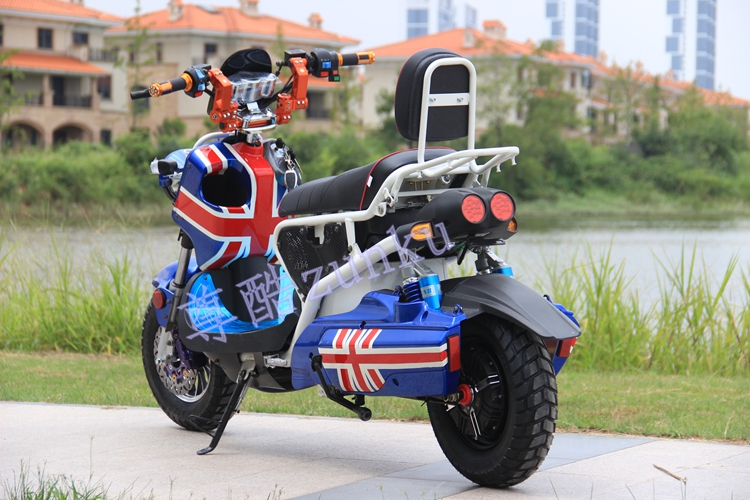电动车: (94, 29, 629, 500)
